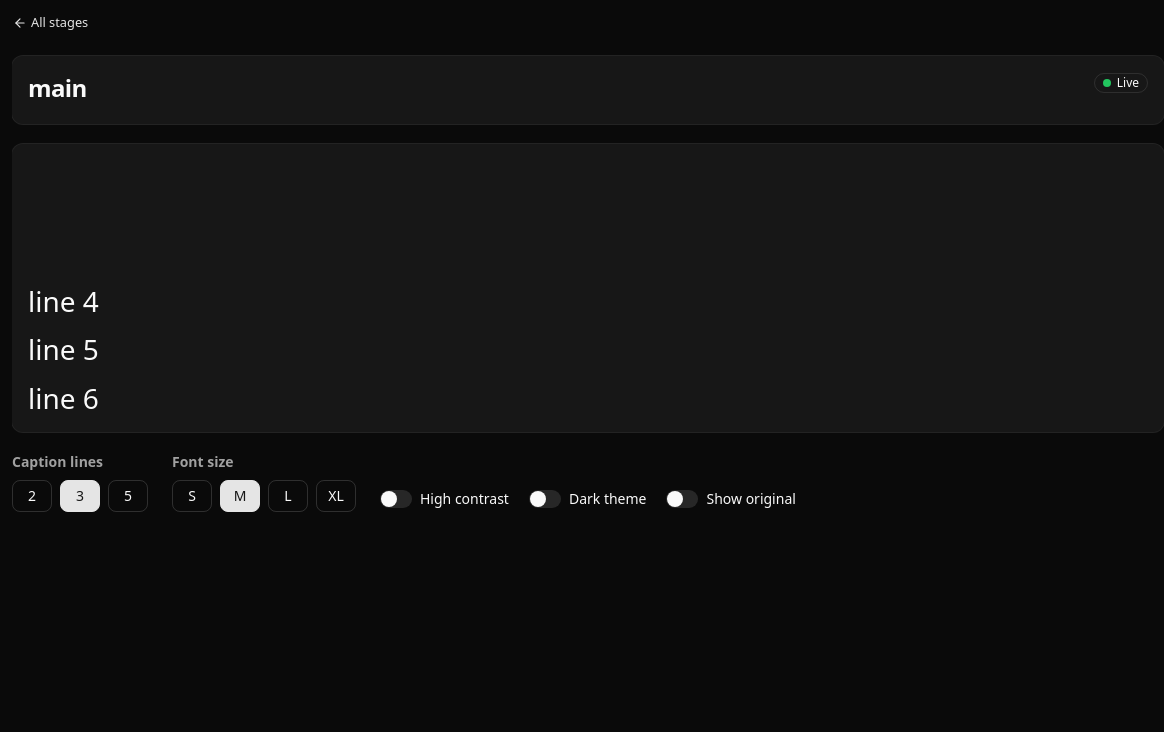
Test: LiveCaptions › lets the audience choose how many caption lines to show
Expected: the radio button named "3 lines" is checked, [60, 480, 100, 512]
Click the radio button named "5 lines": {"x": 128, "y": 496} [108, 480, 148, 512]
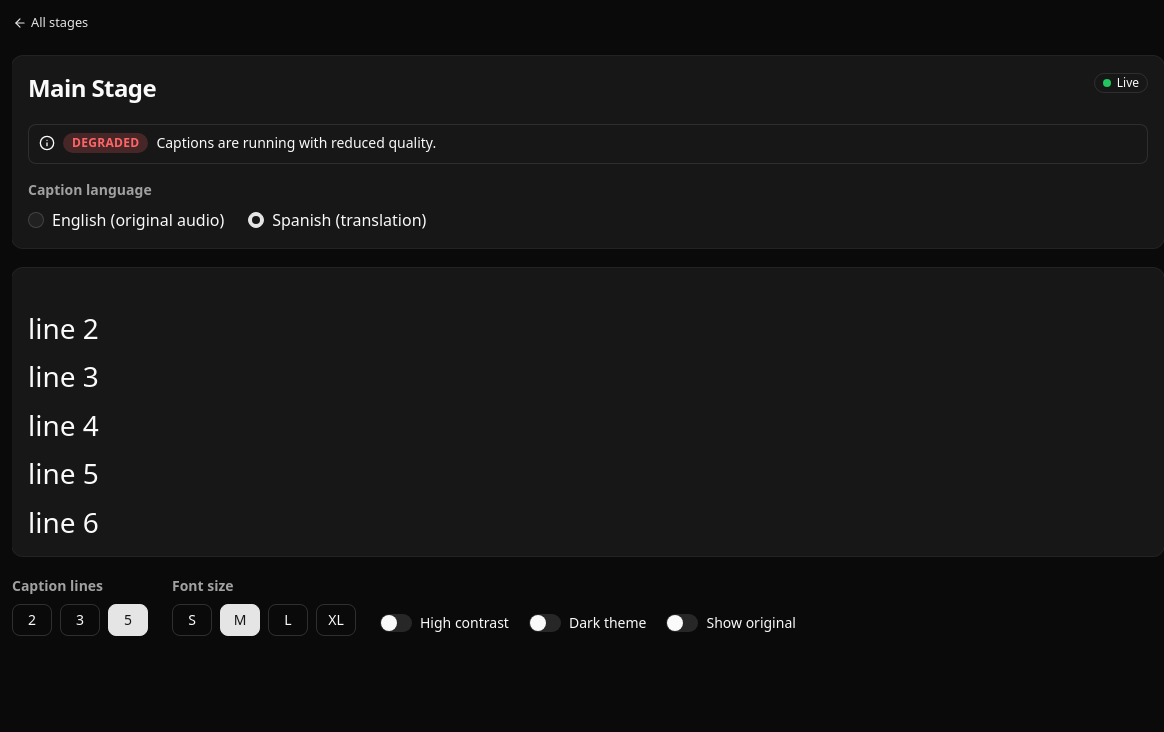
Expected: the element named "Display settings" is shown, [172, 576, 796, 636]
Expected: the radio button named "5 lines" is checked, [108, 604, 148, 636]
Expected: the text "line 2" is shown 5 times, [28, 309, 99, 347]; [28, 357, 99, 395]; [28, 406, 99, 444]; [28, 454, 99, 492]; [28, 503, 99, 541]
